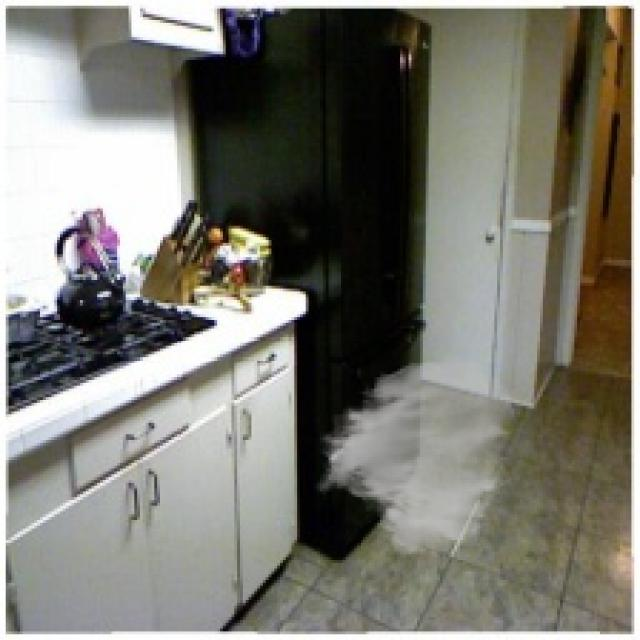smoke: (314, 352, 517, 557)
